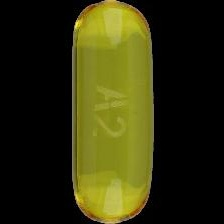61919-272: (0, 0, 224, 224)
